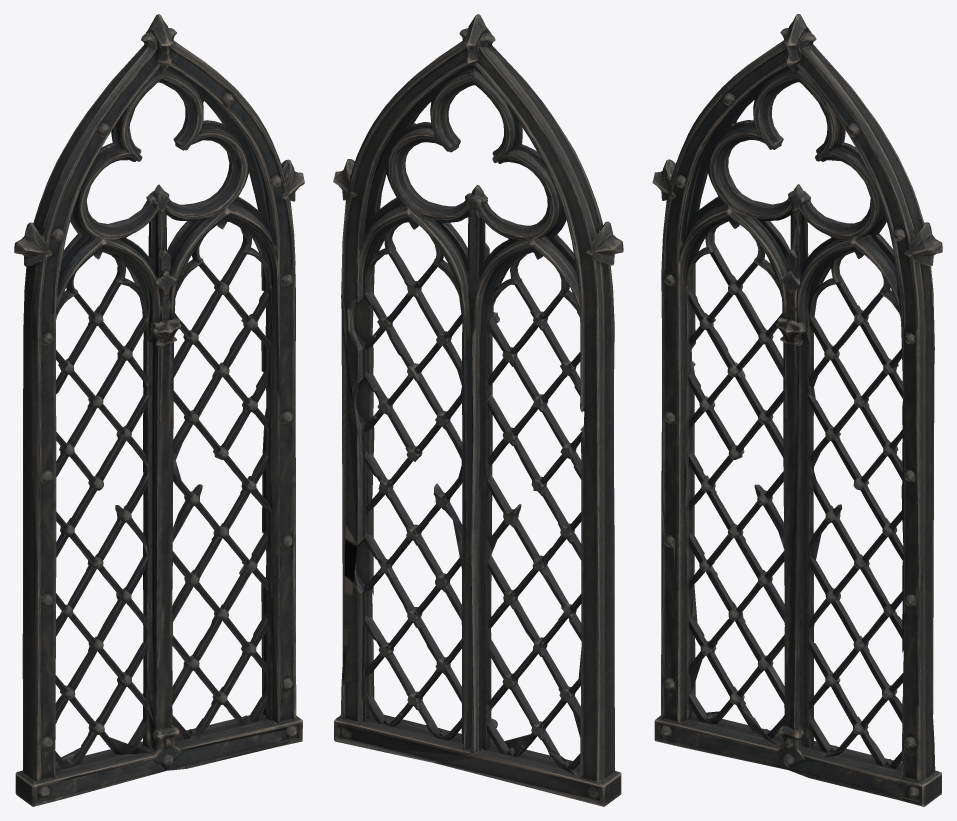
Rendered from window_gothic_iron.glb.
3 renders of one model, left to right at view 1: azimuth 30°, elevation 25°; view 2: azimuth 150°, elevation 25°; view 3: azimuth 330°, elevation 25°, orthographic.
Visible parts, largest first — view 1: output_unwrapped; view 2: output_unwrapped; view 3: output_unwrapped.
Part boxes in pixels (bbox=[...]): output_unwrapped: bbox=[14, 14, 304, 806]; output_unwrapped: bbox=[333, 14, 623, 806]; output_unwrapped: bbox=[652, 14, 942, 806].
Size of the model in its own units: 0.7649 by 1.9 by 0.1037.
Materials: 1 (1 with a texture image).
